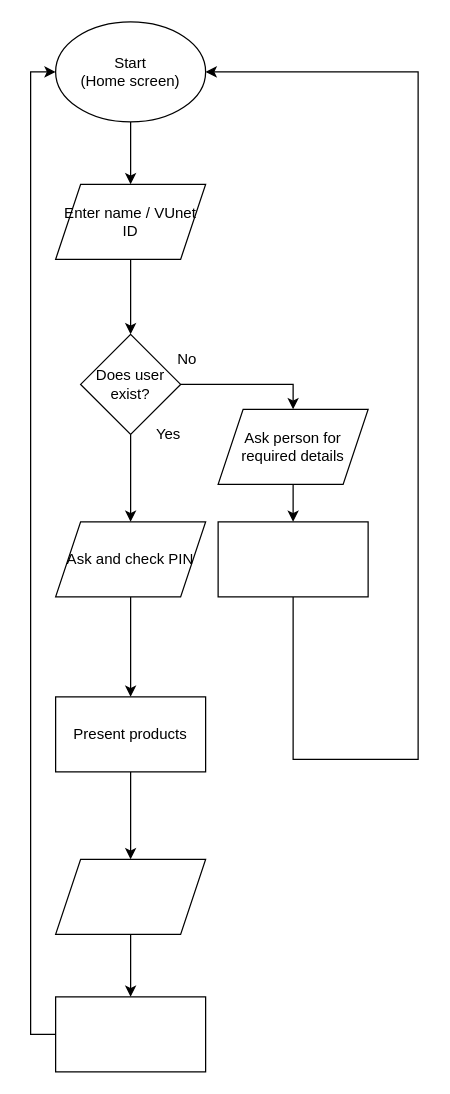
This 450x1094 diagram has some shape labels left out. The shapes that lost their labels are listed below. From the top down, each one's centre as x and y in pixels, then its label:
At point 292,559: "Add person to verification queue".
At point 130,896: "Select products to buy".
At point 130,1034: "Subtract credits".
